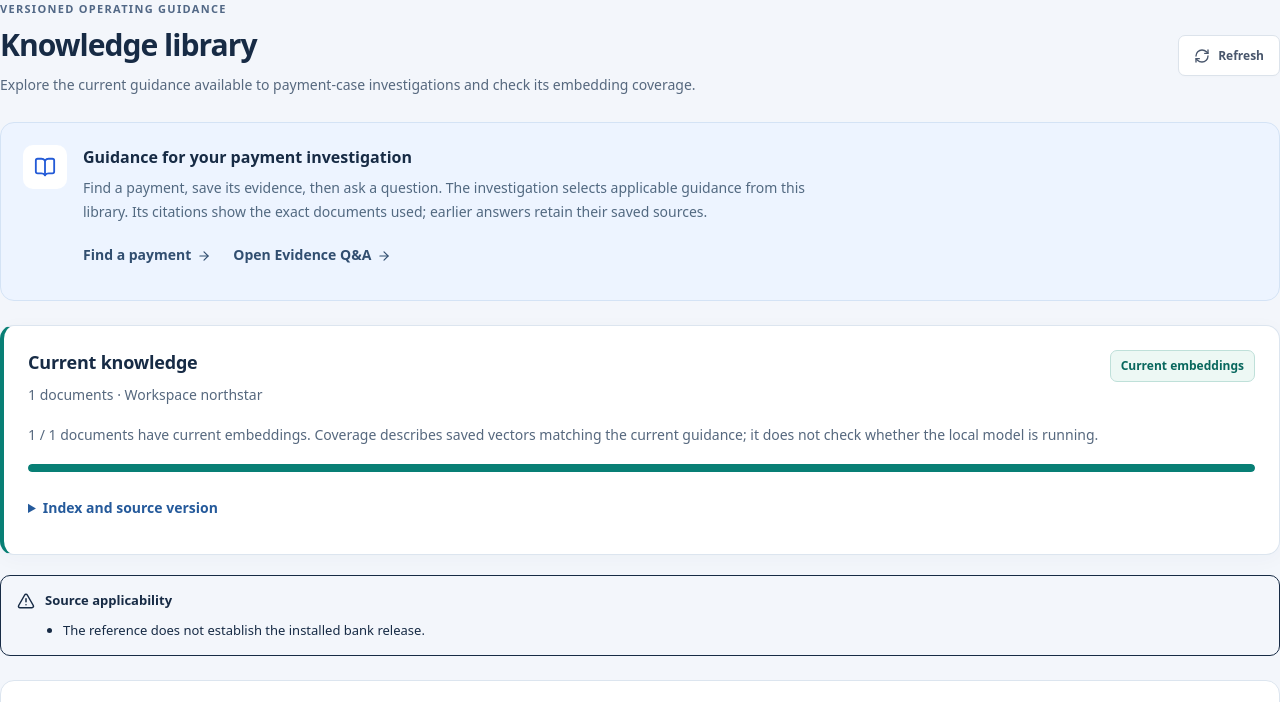
Test case: case knowledge library › does not display stale content after a failed refresh and supports retry
Click the button "Refresh".
click(1229, 56)  # box [1178, 35, 1279, 76]
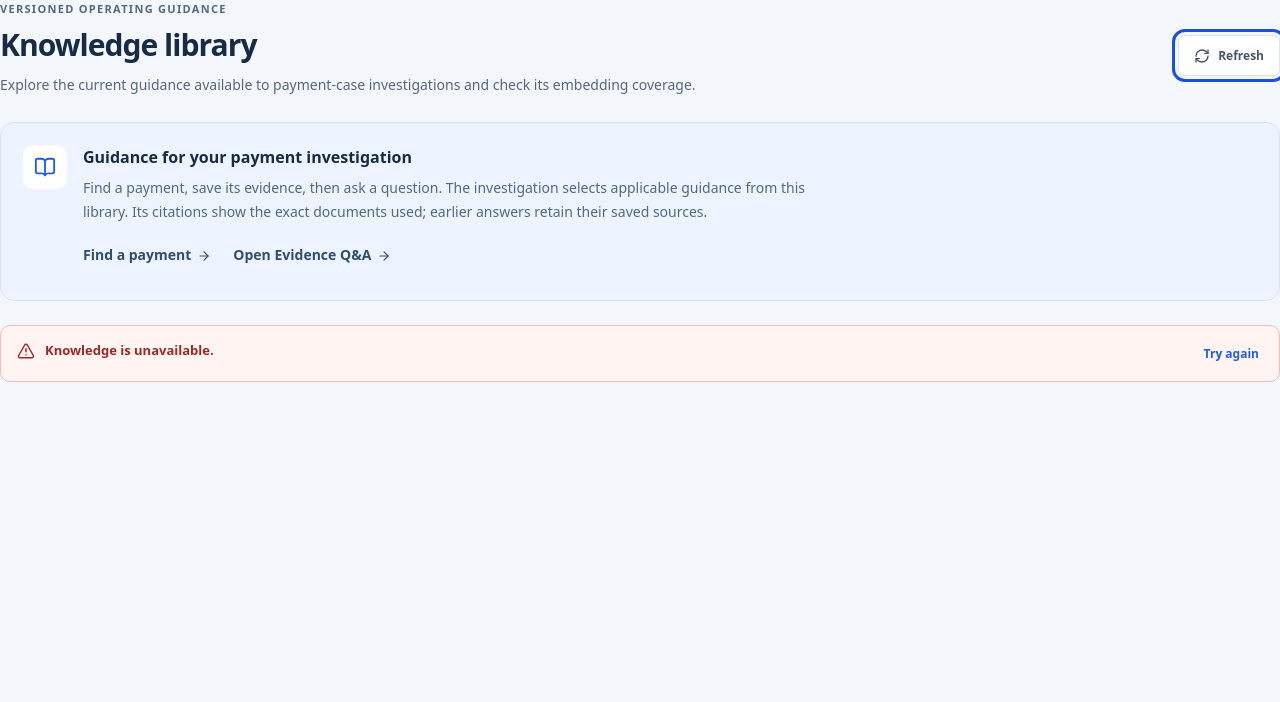
Expected: the message "Knowledge is unavailable. Try again" is shown, [0, 325, 1279, 382]
Expected: the text "Current embeddings" is gone
Click the button "Try again".
click(1231, 354)  # box [1200, 340, 1263, 368]
(page scrolled)
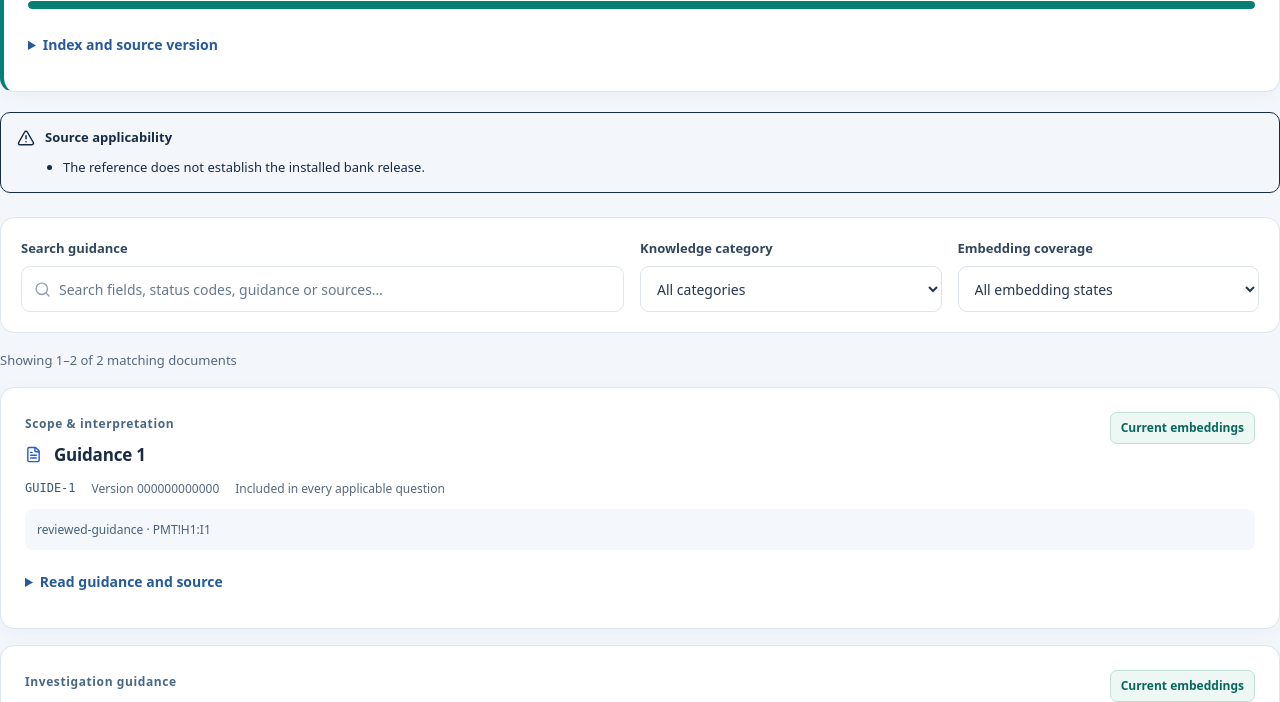
Expected: the text "Showing 1–2 of 2 matching documents" is shown, [0, 351, 237, 369]
